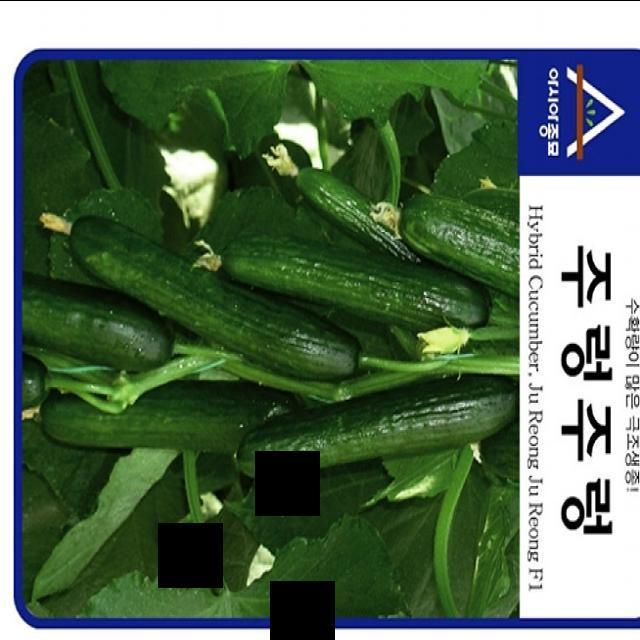cucumber: (19, 92, 513, 534), (172, 200, 500, 380), (212, 366, 509, 562), (45, 236, 361, 364)
